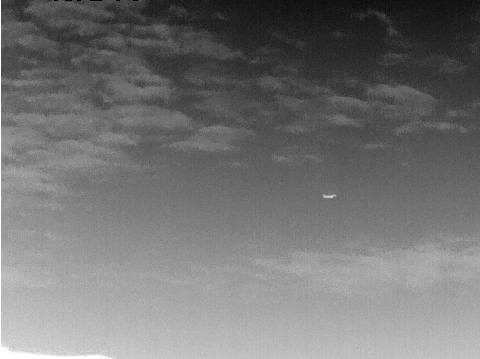dim target: (321, 192, 338, 200)
